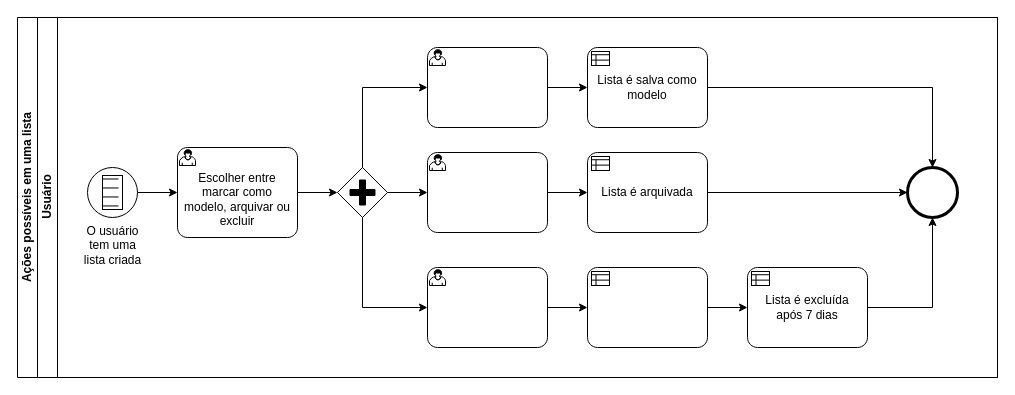
This 1015x395 diagram has some shape labels left out. The shapes that lost their labels are listed below. From the top down, each one's centre as x and y in pixels, then its label:
[487,87]: Marcar como modelo
[487,192]: Arquivar
[487,307]: Excluir
[647,307]: Lista é adicionada a lixeira
